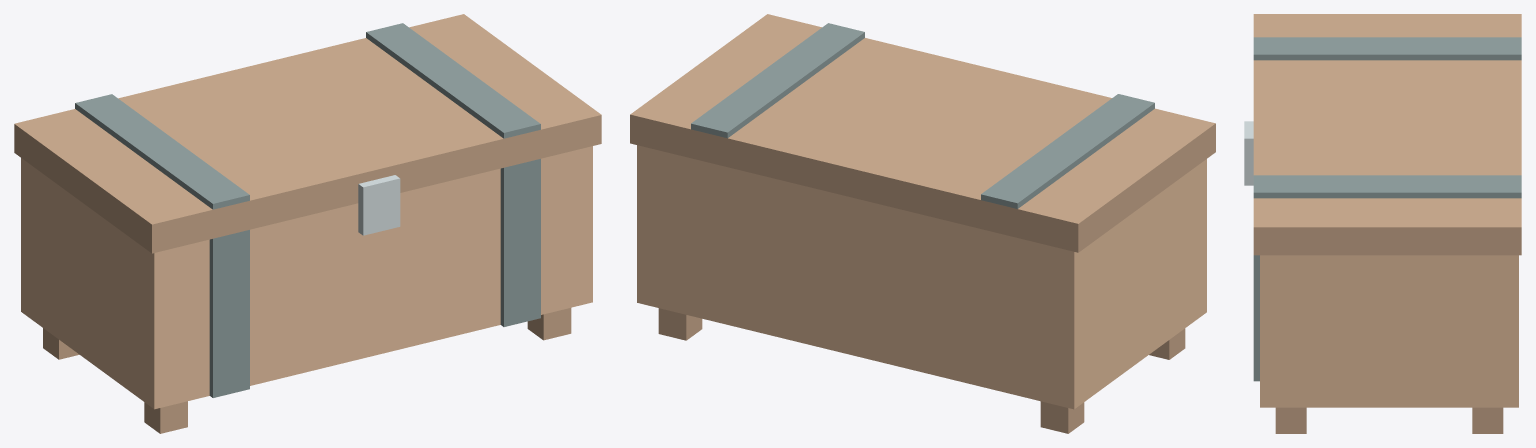
Rendered from chestBlanket.glb.
The picture shows the model from 3 angles, left to right: view 1: azimuth 30°, elevation 25°; view 2: azimuth 150°, elevation 25°; view 3: azimuth 270°, elevation 25°; orthographic projection. The views are drawn at different scales.
Parts seen in each view (by area): view 1: chestBlanket, anim:lid; view 2: chestBlanket, anim:lid; view 3: anim:lid, chestBlanket.
Boxes of the visible parts, x1,y1,x2,y2 form: chestBlanket: (21, 146, 592, 433); anim:lid: (14, 14, 601, 253); chestBlanket: (637, 145, 1206, 433); anim:lid: (630, 14, 1215, 252); anim:lid: (1244, 14, 1521, 255); chestBlanket: (1253, 255, 1518, 433).
Size of the model in its own units: 0.487 by 0.236 by 0.2675.
